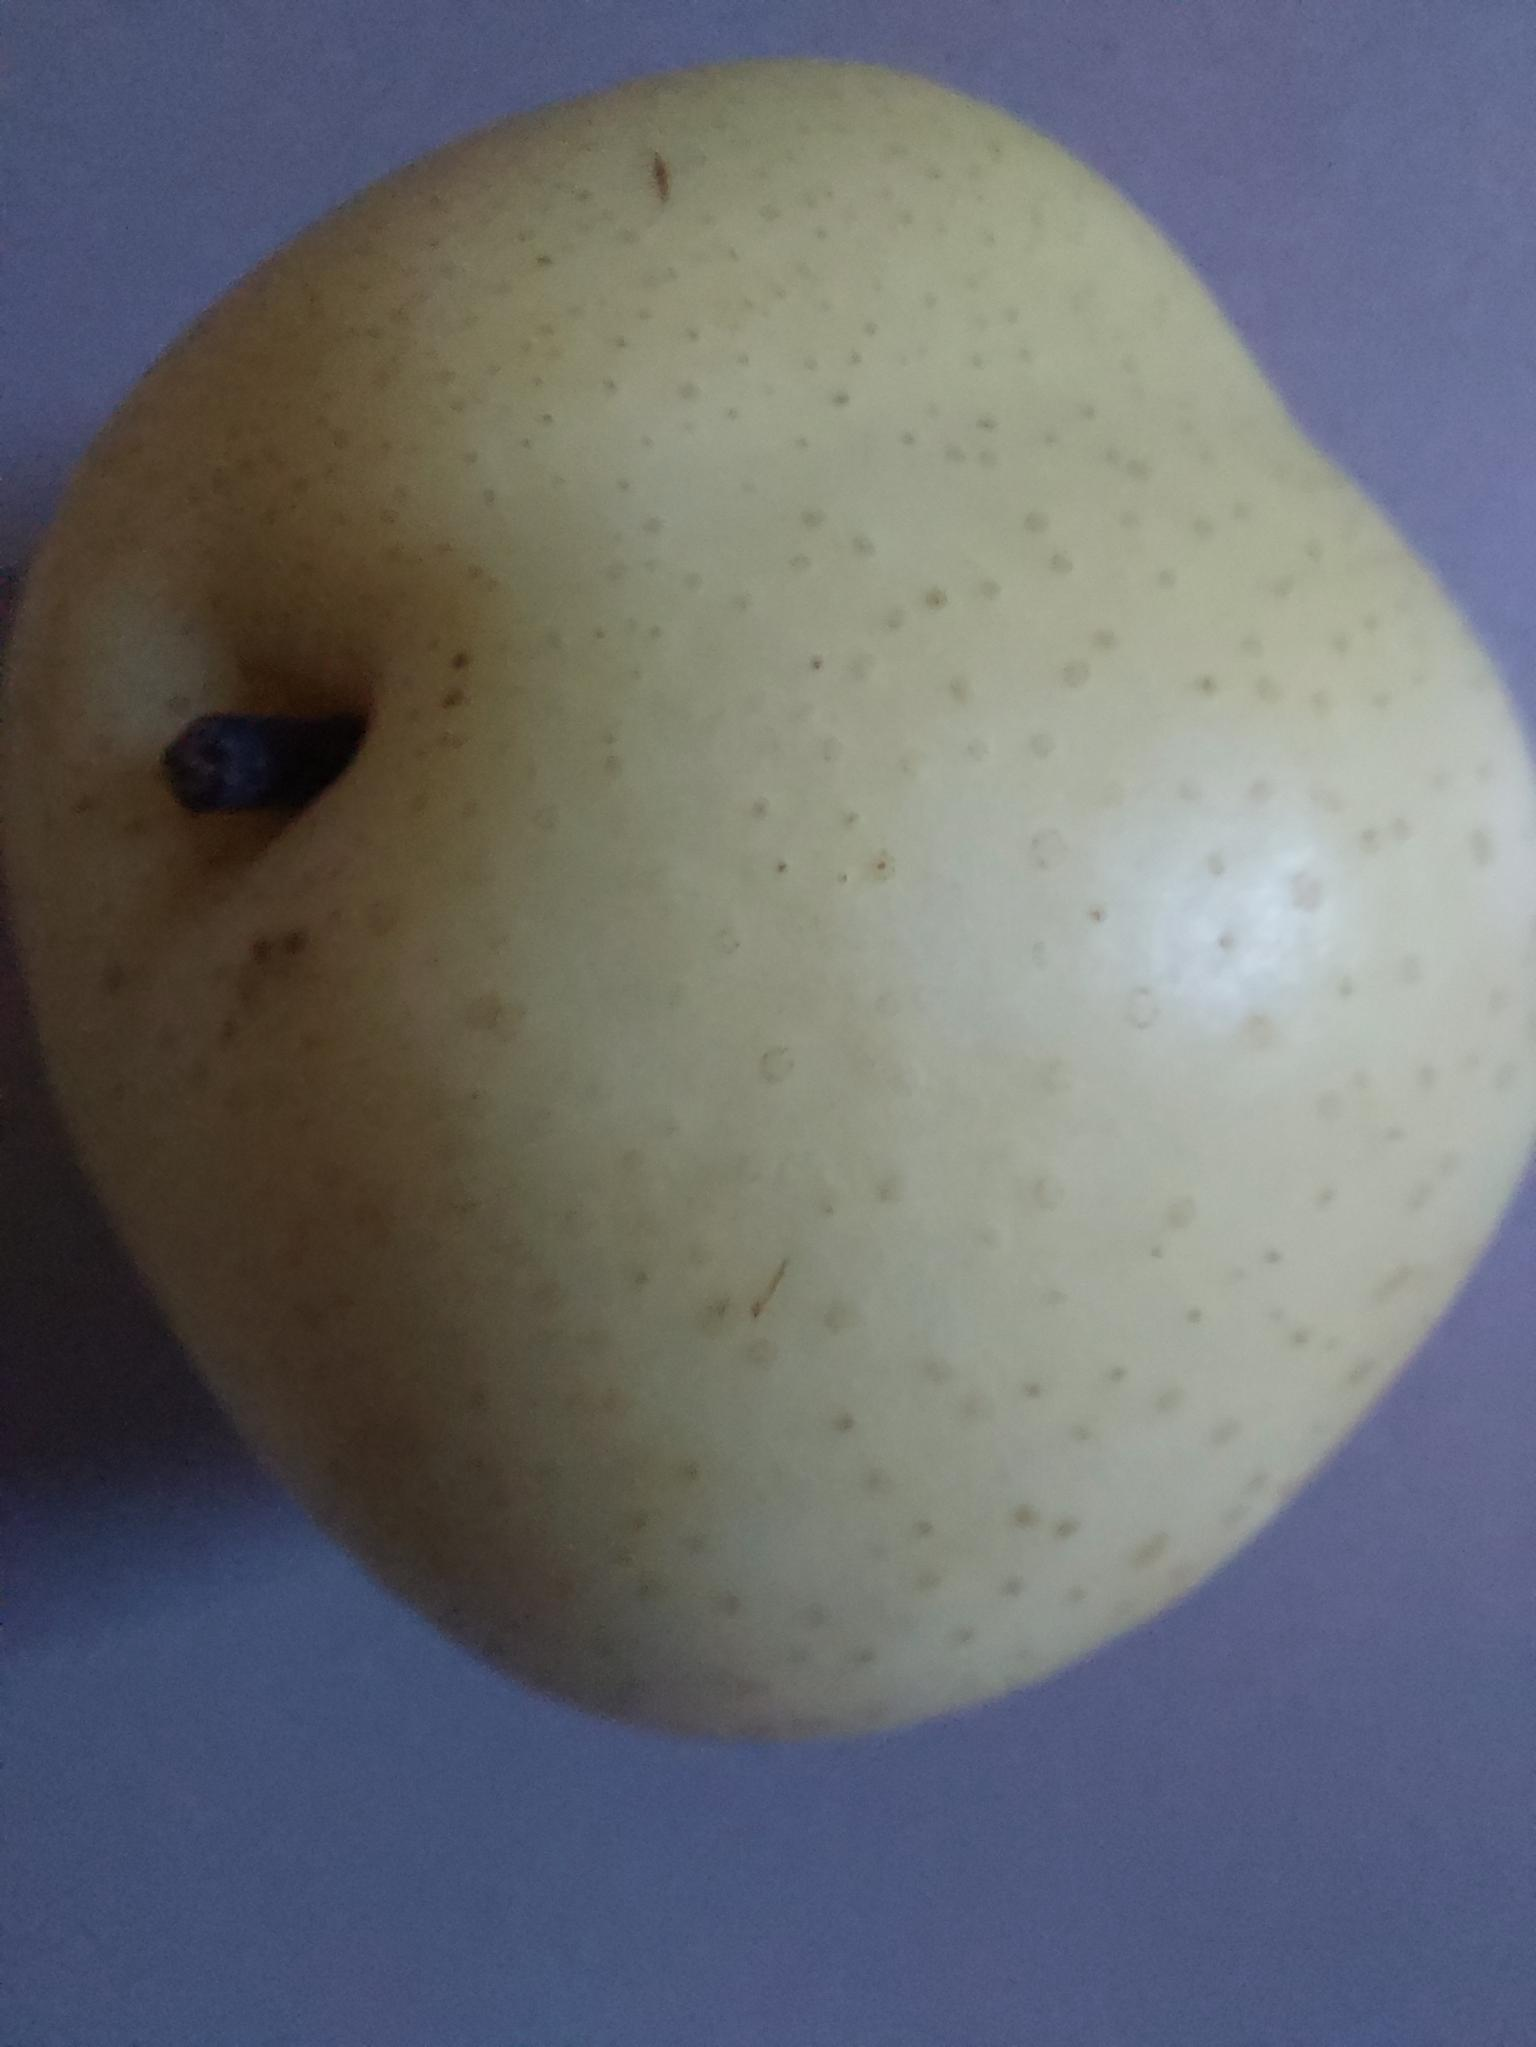Good Pear: (0, 18, 1536, 1807)
